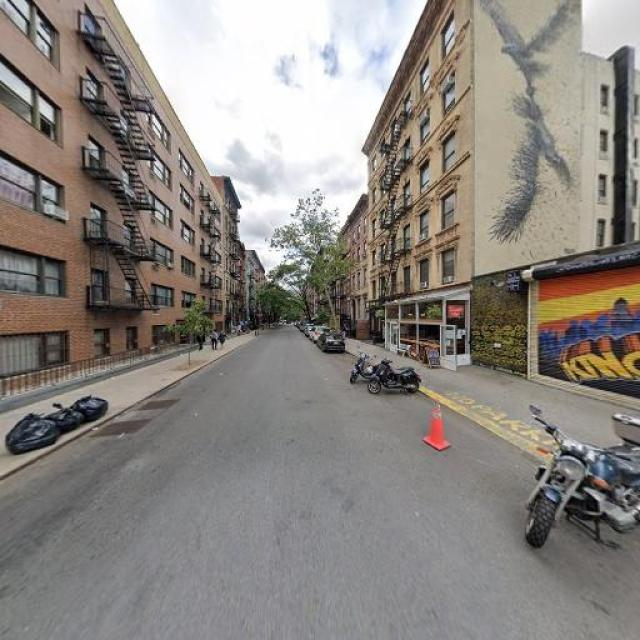Building: (1, 1, 229, 417), (377, 1, 468, 377)
